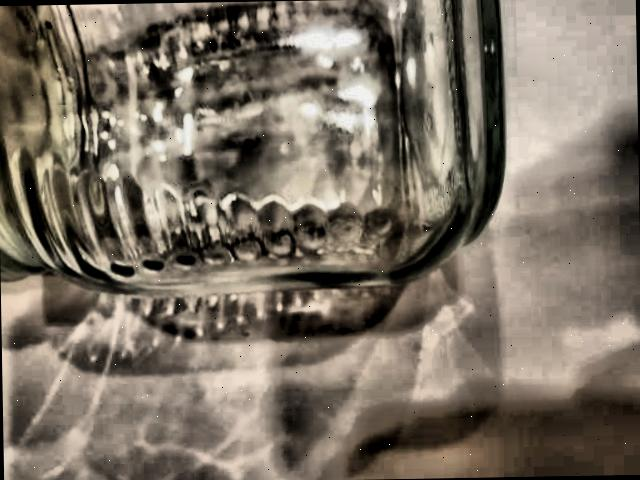Almennt: (0, 0, 510, 309)
